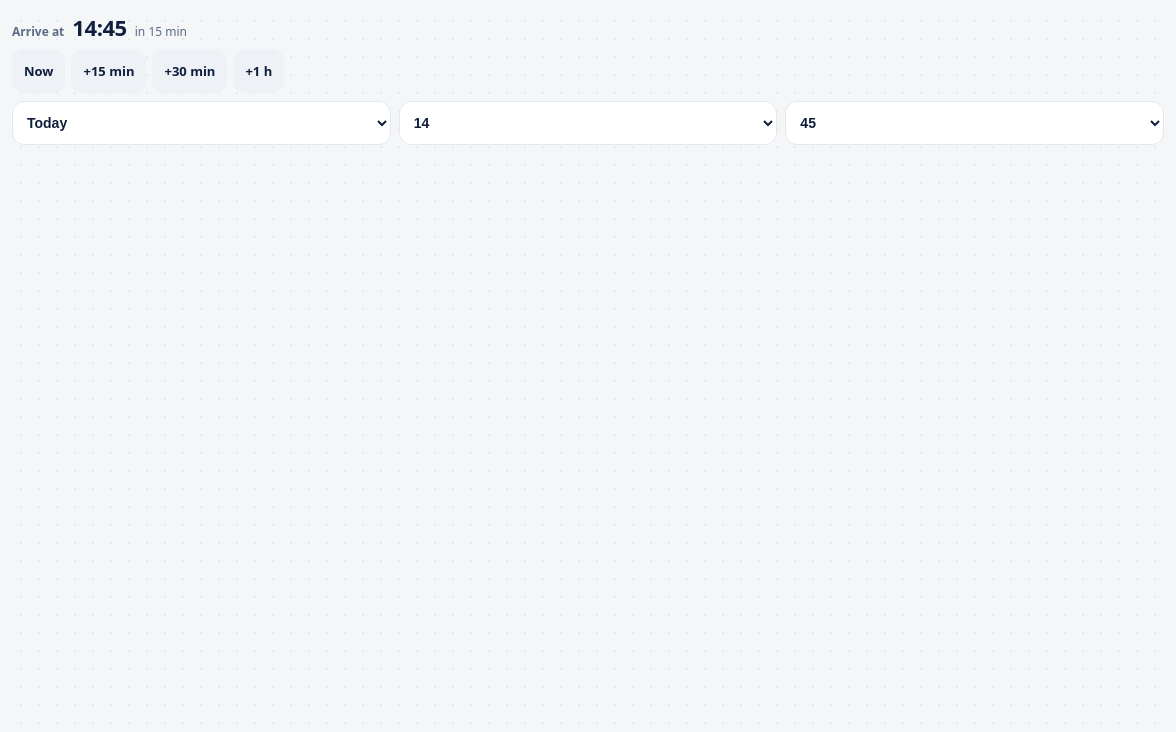
quick chips › mixes increments, because they are offsets and not presets
The image size is (1176, 732).
Click the button "+30 min" at (190, 71), box [152,49,228,93]
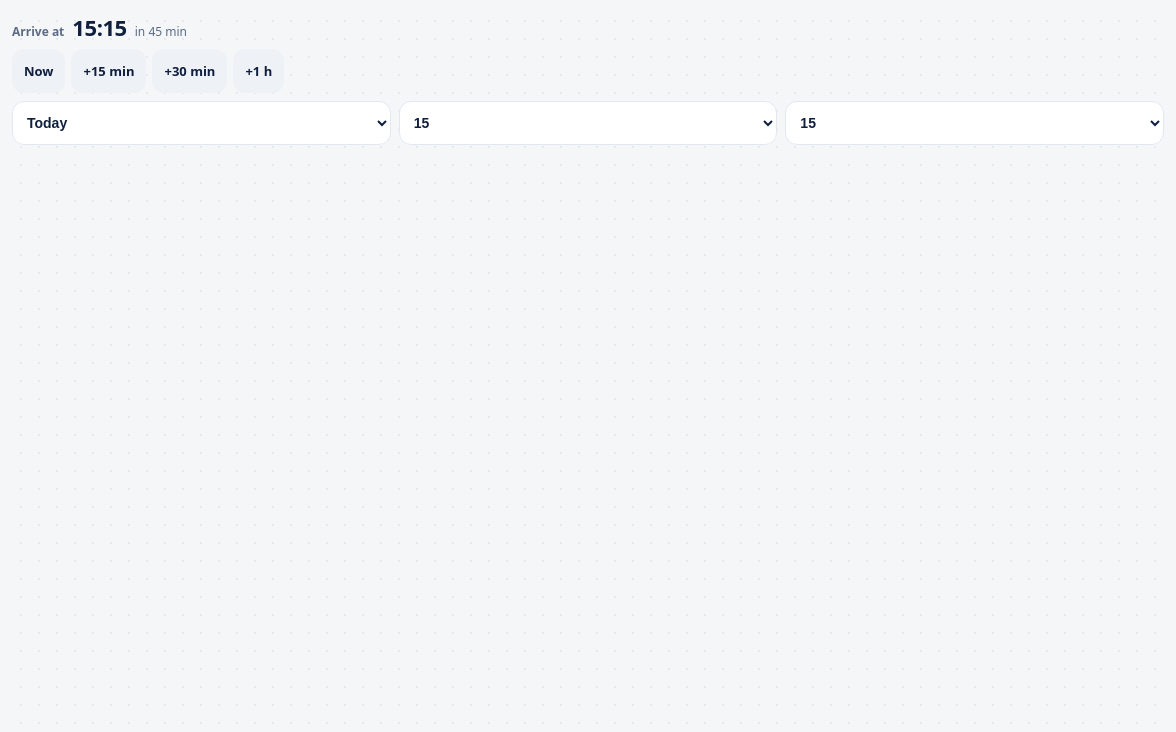
Click the button "+15 min" at (109, 71), box [72,49,146,93]
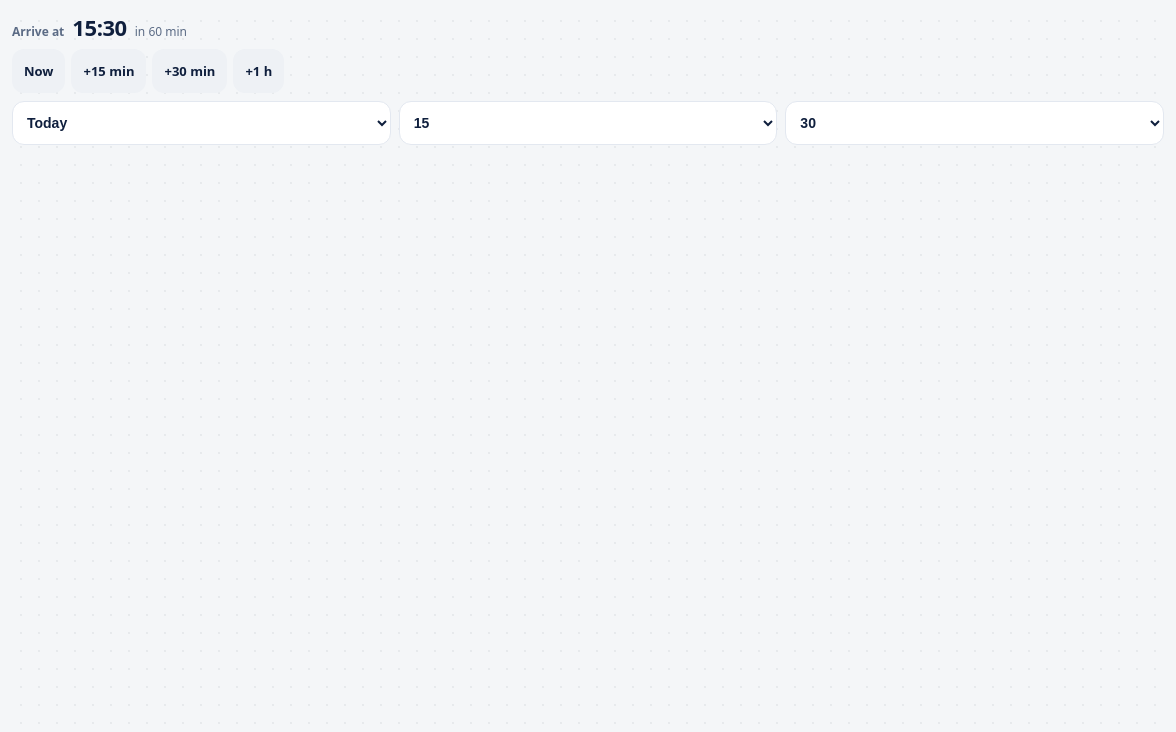
Click the button "+1 h" at (259, 71), box [233,49,284,93]
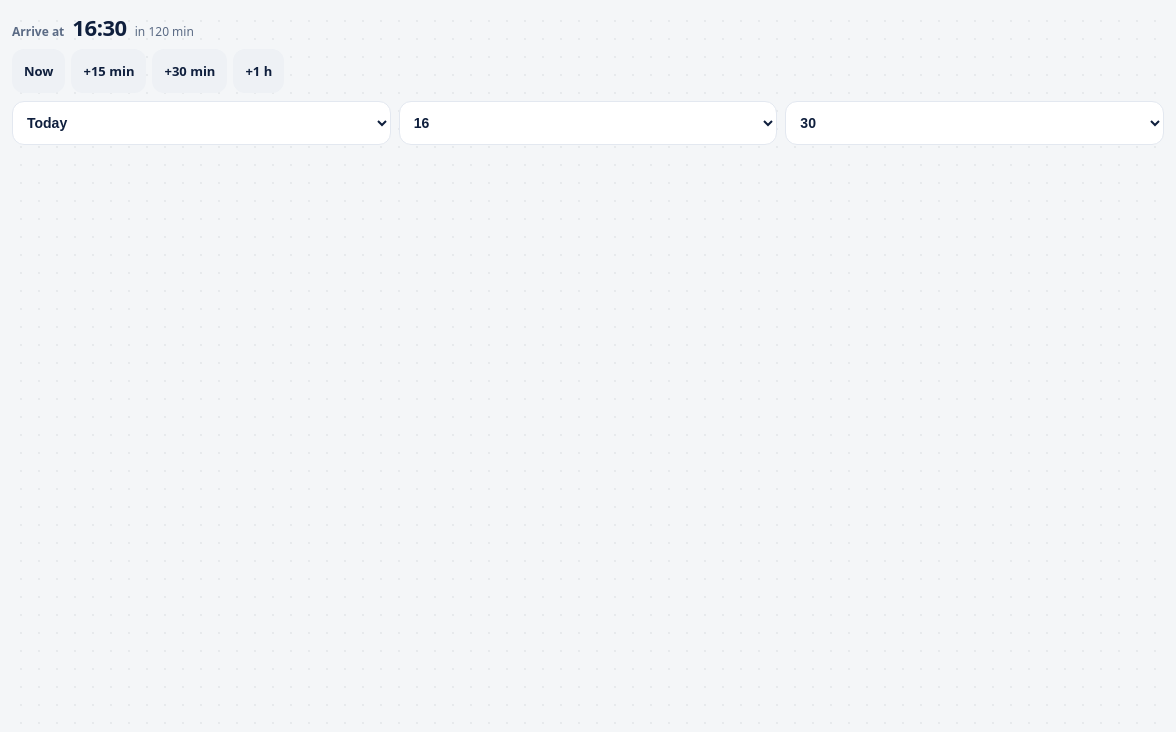
Expected: the text with test id "arrival-time" reads "16:30", [72,12,127,42]
